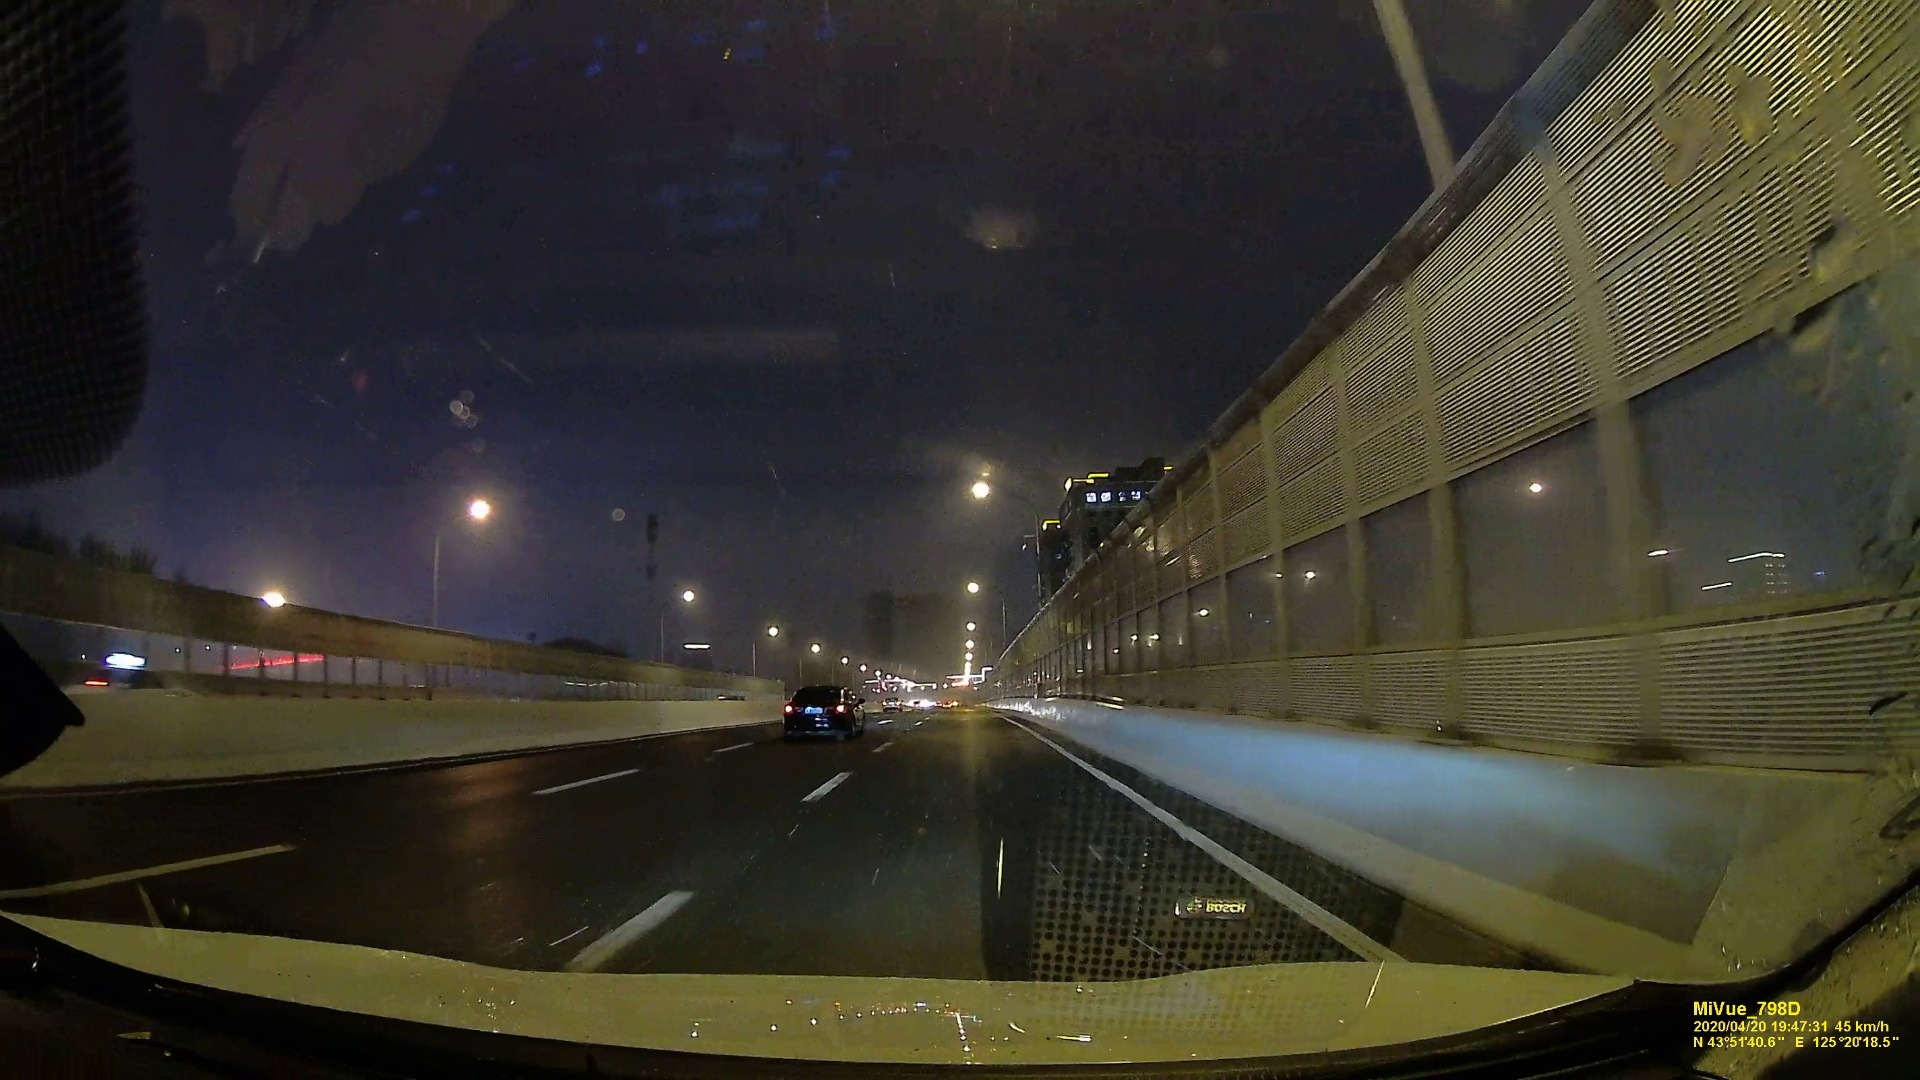vehicle: (785, 682, 868, 740)
